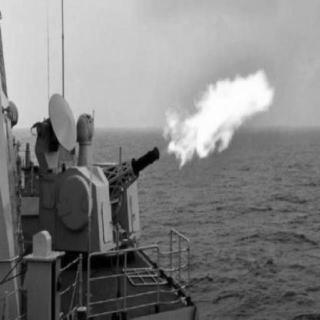Fire: (158, 57, 282, 166)
